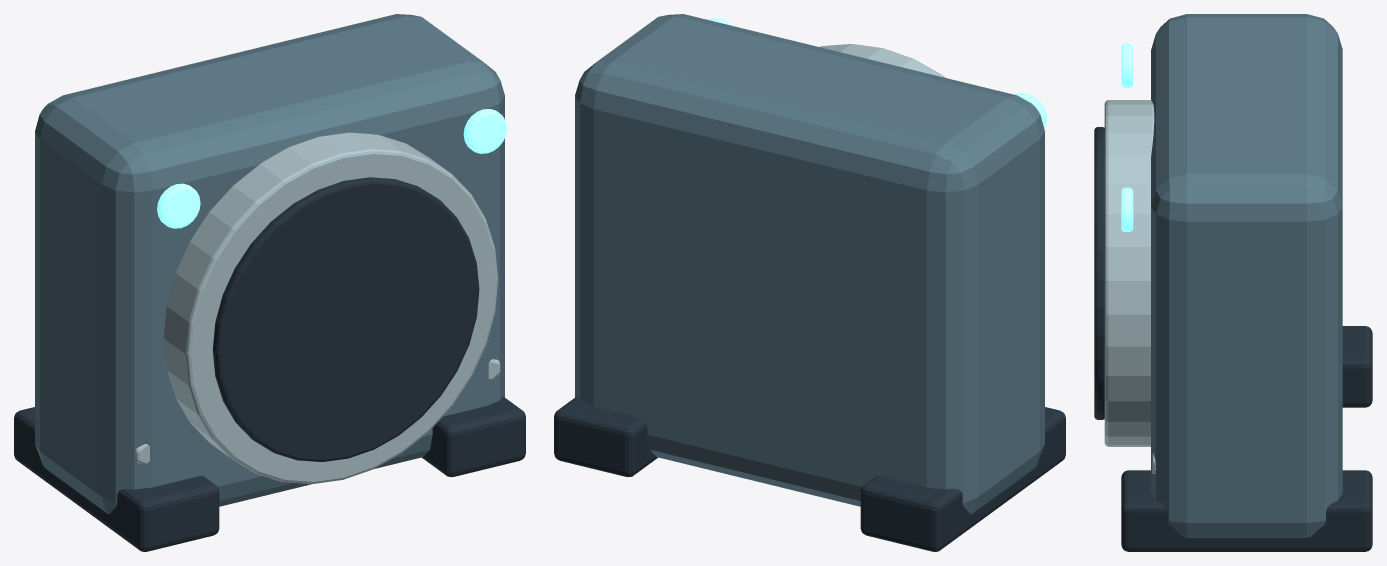
The model's file is SM_WindHousing.fbx.
3 views of the same model, side by side, from view 1: azimuth 30°, elevation 25°; view 2: azimuth 150°, elevation 25°; view 3: azimuth 270°, elevation 25° (orthographic). The views are drawn at different scales.
Parts seen in each view (by area): view 1: SM_WindHousing; view 2: SM_WindHousing; view 3: SM_WindHousing.
Boxes of the visible parts, box(x1,y1,x2,y2) form: SM_WindHousing: box(14, 14, 525, 551); SM_WindHousing: box(554, 14, 1065, 551); SM_WindHousing: box(1094, 14, 1372, 551).
Size of the model in its own units: 148 by 93 by 136.
